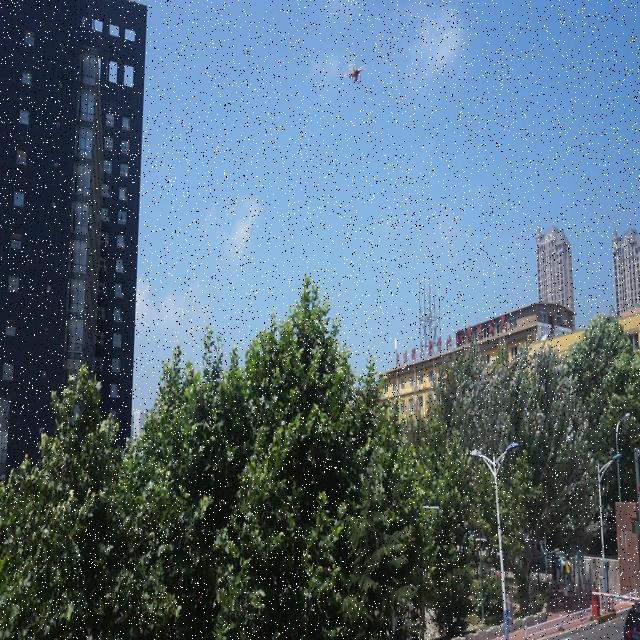UAV: (344, 64, 367, 85)
